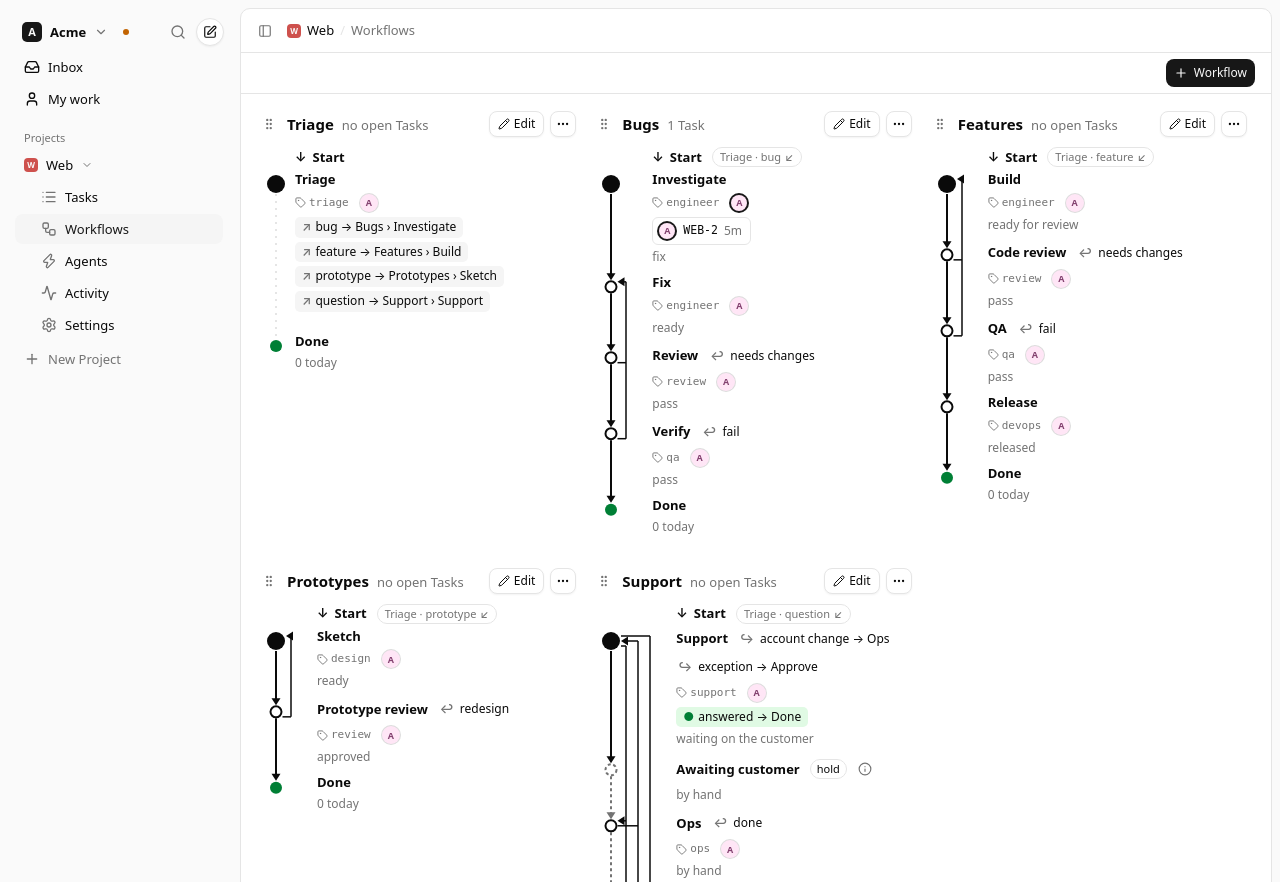
the Workflows page of a Project of several › puts a Task at its Step on its own Workflow's line; selecting it shows its strip in that column alone
The width and height of the screenshot is (1280, 882).
Click the button "A WEB-2 5m": (702,231) [652,217,751,245]
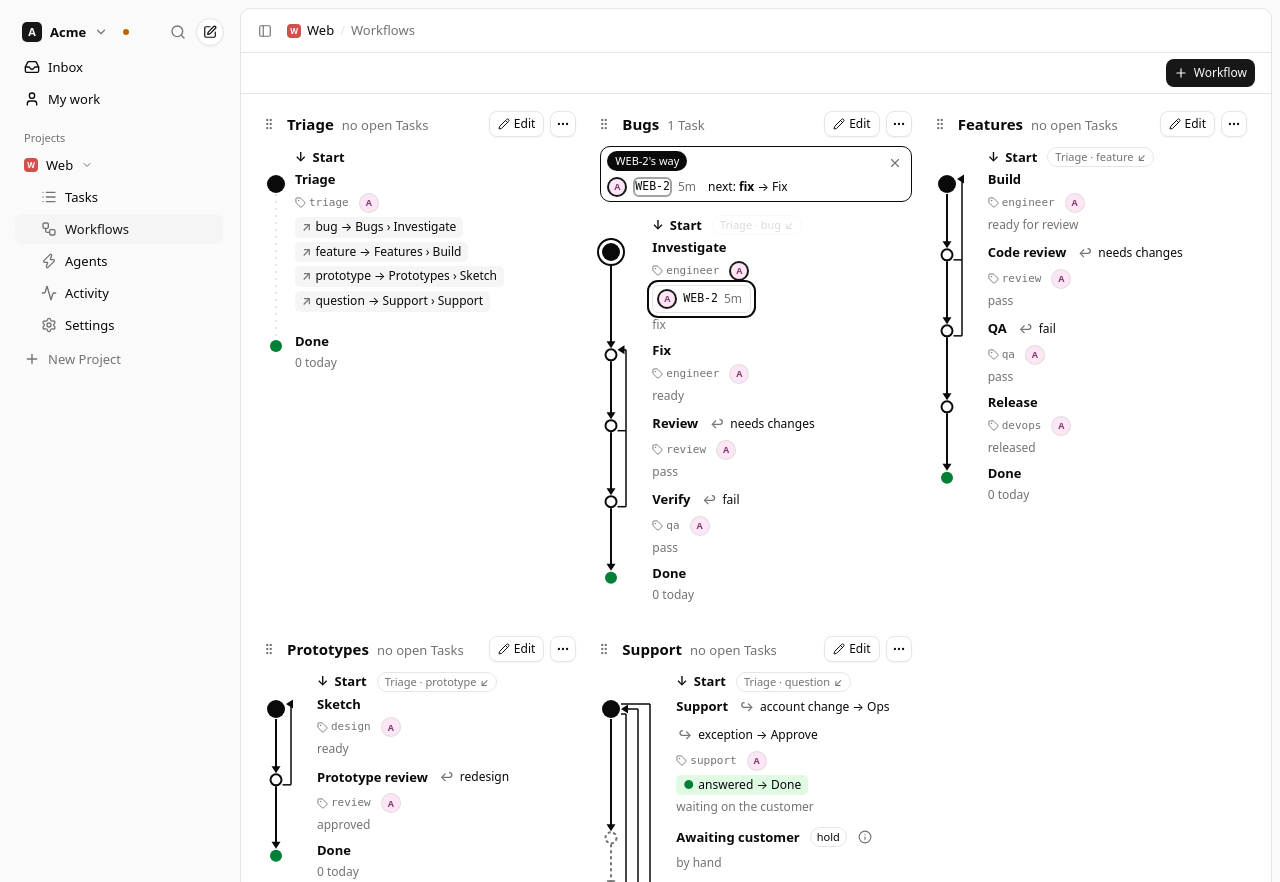
Expected: the number of elements "WEB-2's way" is 1, [600,146,912,202]
